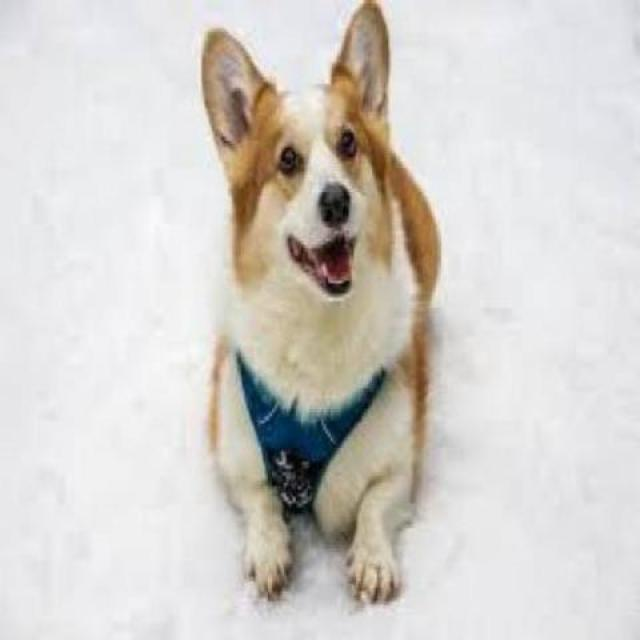dog: (196, 0, 424, 346)
